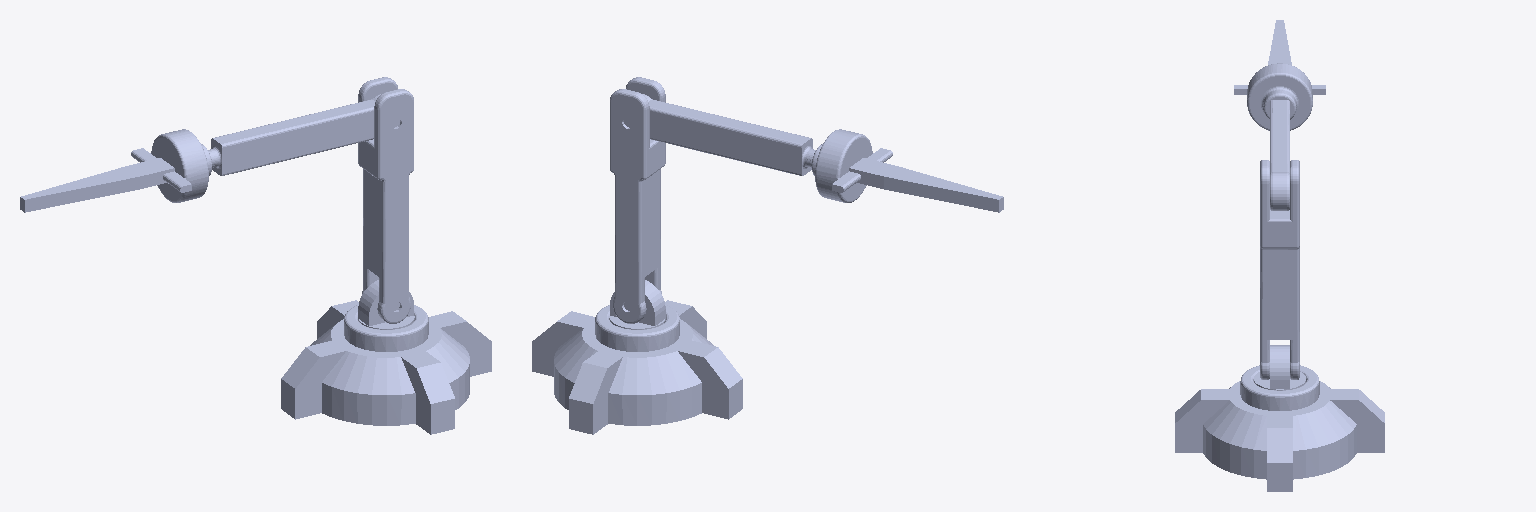
robot.urdf — Archivos_URDF:
<?xml version="1.0" encoding="utf-8"?>
<!-- This URDF was automatically created by SolidWorks to URDF Exporter! Originally created by [author] ([email redacted]) 
     Commit Version: 1.6.0-1-g15f4949  Build Version: 1.6.7594.29634
     For more information, please see http://wiki.ros.org/sw_urdf_exporter -->
<robot
  name="Archivos_URDF">
  <link
    name="base_link">
    <inertial>
      <origin
        xyz="1.04083408558608E-17 -4.74419593662523E-18 0.0211342975511615"
        rpy="0 0 0" />
      <mass
        value="0.513305048081214" />
      <inertia
        ixx="0.000589039873810118"
        ixy="-2.9778502051909E-20"
        ixz="8.12582872741327E-21"
        iyy="0.000589039873810118"
        iyz="-3.54329283145971E-20"
        izz="0.000998091548426159" />
    </inertial>
    <visual>
      <origin
        xyz="0 0 0"
        rpy="0 0 0" />
      <geometry>
        <mesh
          filename="package://Archivos_URDF/meshes/base_link.STL" />
      </geometry>
      <material
        name="">
        <color
          rgba="0.792156862745098 0.819607843137255 0.933333333333333 1" />
      </material>
    </visual>
    <collision>
      <origin
        xyz="0 0 0"
        rpy="0 0 0" />
      <geometry>
        <mesh
          filename="package://Archivos_URDF/meshes/base_link.STL" />
      </geometry>
    </collision>
  </link>
  <link
    name="Link_2">
    <inertial>
      <origin
        xyz="-1.73472347597681E-18 1.1280828360068E-08 0.0585415312896596"
        rpy="0 0 0" />
      <mass
        value="0.0298150173902571" />
      <inertia
        ixx="5.28316251610019E-06"
        ixy="3.04330184981795E-23"
        ixz="1.72063828620642E-22"
        iyy="6.17773839822544E-06"
        iyz="-4.1599871884896E-12"
        izz="4.82762081896035E-06" />
    </inertial>
    <visual>
      <origin
        xyz="0 0 0"
        rpy="0 0 0" />
      <geometry>
        <mesh
          filename="package://Archivos_URDF/meshes/Link_2.STL" />
      </geometry>
      <material
        name="">
        <color
          rgba="0.792156862745098 0.819607843137255 0.933333333333333 1" />
      </material>
    </visual>
    <collision>
      <origin
        xyz="0 0 0"
        rpy="0 0 0" />
      <geometry>
        <mesh
          filename="package://Archivos_URDF/meshes/Link_2.STL" />
      </geometry>
    </collision>
  </link>
  <joint
    name="Joint_2"
    type="revolute">
    <origin
      xyz="0 0 0"
      rpy="0 0 0" />
    <parent
      link="base_link" />
    <child
      link="Link_2" />
    <axis
      xyz="0 0 1" />
    <limit
      lower="0"
      upper="3.142"
      effort="300"
      velocity="3" />
  </joint>
  <link
    name="Link_3">
    <inertial>
      <origin
        xyz="-5.20417042793042E-18 0.0812673430675752 -6.88505437219738E-18"
        rpy="0 0 0" />
      <mass
        value="0.100483555337623" />
      <inertia
        ixx="0.000209422011369855"
        ixy="2.64949697662501E-20"
        ixz="6.39301353680916E-12"
        iyy="1.43468981376173E-05"
        iyz="1.49806768256933E-20"
        izz="0.000205738967942235" />
    </inertial>
    <visual>
      <origin
        xyz="0 0 0"
        rpy="0 0 0" />
      <geometry>
        <mesh
          filename="package://Archivos_URDF/meshes/Link_3.STL" />
      </geometry>
      <material
        name="">
        <color
          rgba="0.792156862745098 0.819607843137255 0.933333333333333 1" />
      </material>
    </visual>
    <collision>
      <origin
        xyz="0 0 0"
        rpy="0 0 0" />
      <geometry>
        <mesh
          filename="package://Archivos_URDF/meshes/Link_3.STL" />
      </geometry>
    </collision>
  </link>
  <joint
    name="Joint_3"
    type="revolute">
    <origin
      xyz="0 0 0.07091"
      rpy="1.5708 0 0" />
    <parent
      link="Link_2" />
    <child
      link="Link_3" />
    <axis
      xyz="0 0 -1" />
    <limit
      lower="-1.57"
      upper="1.57"
      effort="200"
      velocity="3" />
  </joint>
  <link
    name="Link_4">
    <inertial>
      <origin
        xyz="-0.0650141812421137 -0.012499999992724 -4.8132443444162E-07"
        rpy="0 0 0" />
      <mass
        value="0.0607663214998903" />
      <inertia
        ixx="4.22320871694822E-06"
        ixy="2.48026695674233E-14"
        ixz="-1.08820986114423E-09"
        iyy="0.000133882737654174"
        iyz="8.15378607161622E-12"
        izz="0.000135777021450488" />
    </inertial>
    <visual>
      <origin
        xyz="0 0 0"
        rpy="0 0 0" />
      <geometry>
        <mesh
          filename="package://Archivos_URDF/meshes/Link_4.STL" />
      </geometry>
      <material
        name="">
        <color
          rgba="0.792156862745098 0.819607843137255 0.933333333333333 1" />
      </material>
    </visual>
    <collision>
      <origin
        xyz="0 0 0"
        rpy="0 0 0" />
      <geometry>
        <mesh
          filename="package://Archivos_URDF/meshes/Link_4.STL" />
      </geometry>
    </collision>
  </link>
  <joint
    name="Joint_4"
    type="revolute">
    <origin
      xyz="0 0.1555 0"
      rpy="0 0 0" />
    <parent
      link="Link_3" />
    <child
      link="Link_4" />
    <axis
      xyz="0 0 1" />
    <limit
      lower="0"
      upper="3.142"
      effort="200"
      velocity="3" />
  </joint>
  <link
    name="Link_5">
    <inertial>
      <origin
        xyz="-2.01424434857073E-18 1.11022302462516E-16 -0.019928523878268"
        rpy="0 0 0" />
      <mass
        value="0.0460123556163477" />
      <inertia
        ixx="9.12035370421495E-06"
        ixy="4.41713259897679E-16"
        ixz="-9.08745942028911E-22"
        iyy="1.04988293472204E-05"
        iyz="-8.91718671189687E-22"
        izz="1.38630378204512E-05" />
    </inertial>
    <visual>
      <origin
        xyz="0 0 0"
        rpy="0 0 0" />
      <geometry>
        <mesh
          filename="package://Archivos_URDF/meshes/Link_5.STL" />
      </geometry>
      <material
        name="">
        <color
          rgba="0.792156862745098 0.819607843137255 0.933333333333333 1" />
      </material>
    </visual>
    <collision>
      <origin
        xyz="0 0 0"
        rpy="0 0 0" />
      <geometry>
        <mesh
          filename="package://Archivos_URDF/meshes/Link_5.STL" />
      </geometry>
    </collision>
  </link>
  <joint
    name="Joint_5"
    type="revolute">
    <origin
      xyz="-0.1483 -0.0125 0"
      rpy="0 1.5708 0" />
    <parent
      link="Link_4" />
    <child
      link="Link_5" />
    <axis
      xyz="0 0 -1" />
    <limit
      lower="0"
      upper="3.142"
      effort="200"
      velocity="3" />
  </joint>
  <link
    name="Link_6">
    <inertial>
      <origin
        xyz="0.0039758805416412 -0.00249999999999997 0.0431691091091901"
        rpy="0 0 0" />
      <mass
        value="0.00820216814692821" />
      <inertia
        ixx="7.8317509381251E-06"
        ixy="3.93622840678767E-23"
        ixz="2.57194483482804E-07"
        iyy="7.81536660904896E-06"
        iyz="-1.44347691795897E-21"
        izz="1.26431924624515E-07" />
    </inertial>
    <visual>
      <origin
        xyz="0 0 0"
        rpy="0 0 0" />
      <geometry>
        <mesh
          filename="package://Archivos_URDF/meshes/Link_6.STL" />
      </geometry>
      <material
        name="">
        <color
          rgba="0.792156862745098 0.819607843137255 0.933333333333333 1" />
      </material>
    </visual>
    <collision>
      <origin
        xyz="0 0 0"
        rpy="0 0 0" />
      <geometry>
        <mesh
          filename="package://Archivos_URDF/meshes/Link_6.STL" />
      </geometry>
    </collision>
  </link>
  <joint
    name="Joint_6"
    type="prismatic">
    <origin
      xyz="0 0.0025 -0.038"
      rpy="-3.1416 0 3.1416" />
    <parent
      link="Link_5" />
    <child
      link="Link_6" />
    <axis
      xyz="-1 0 0" />
    <limit
      lower="0"
      upper="0.03"
      effort="100"
      velocity="3" />
  </joint>
  <link
    name="Link_7">
    <inertial>
      <origin
        xyz="-0.00397588054164117 -0.00249999999999997 0.0431691091091901"
        rpy="0 0 0" />
      <mass
        value="0.00820216814692821" />
      <inertia
        ixx="7.8317509381251E-06"
        ixy="-3.18464546859489E-23"
        ixz="-2.57194483482806E-07"
        iyy="7.81536660904896E-06"
        iyz="-1.54058224043887E-21"
        izz="1.26431924624515E-07" />
    </inertial>
    <visual>
      <origin
        xyz="0 0 0"
        rpy="0 0 0" />
      <geometry>
        <mesh
          filename="package://Archivos_URDF/meshes/Link_7.STL" />
      </geometry>
      <material
        name="">
        <color
          rgba="0.792156862745098 0.819607843137255 0.933333333333333 1" />
      </material>
    </visual>
    <collision>
      <origin
        xyz="0 0 0"
        rpy="0 0 0" />
      <geometry>
        <mesh
          filename="package://Archivos_URDF/meshes/Link_7.STL" />
      </geometry>
    </collision>
  </link>
  <joint
    name="Joint_7"
    type="prismatic">
    <origin
      xyz="0 0.0025 -0.038"
      rpy="-3.1416 0 3.1416" />
    <parent
      link="Link_5" />
    <child
      link="Link_7" />
    <axis
      xyz="-1 0 0" />
    <limit
      lower="-0.03"
      upper="0"
      effort="100"
      velocity="3" />
  </joint>
</robot>

--- Render facts (derived) ---
Views: 3 orthographic renders of the robot side by side, from view 1: azimuth 30°, elevation 25°; view 2: azimuth 150°, elevation 25°; view 3: azimuth 270°, elevation 25°.
Robot: Archivos_URDF — 7 links, 6 joints (4 revolute, 2 prismatic); root link base_link; default pose: all joints at 0.
Links seen in each view (by area): view 1: base_link, Link_3, Link_4, Link_5, Link_6, Link_2, Link_7; view 2: base_link, Link_3, Link_4, Link_5, Link_7, Link_2, Link_6; view 3: base_link, Link_3, Link_5, Link_4, Link_2.
Boxes of the visible links, x1,y1,x2,y2 form: base_link: (281,300,491,434); Link_3: (358,77,413,323); Link_4: (208,94,399,175); Link_5: (131,129,211,202); Link_6: (23,163,174,212); Link_2: (358,280,414,329); Link_7: (20,158,166,210); base_link: (532,300,742,434); Link_3: (610,77,665,323); Link_4: (624,94,815,175); Link_5: (812,129,892,202); Link_7: (849,163,1000,212); Link_2: (609,280,665,329); Link_6: (857,158,1003,210); base_link: (1175,365,1384,491); Link_3: (1260,160,1299,379); Link_5: (1234,63,1325,130); Link_4: (1270,100,1289,210); Link_2: (1254,345,1305,390).
Bounding box of the posed robot: 0.3767 × 0.16 × 0.2389 m (x, y, z).
7 mesh visuals loaded from 7 distinct referenced files (7 binary STL).